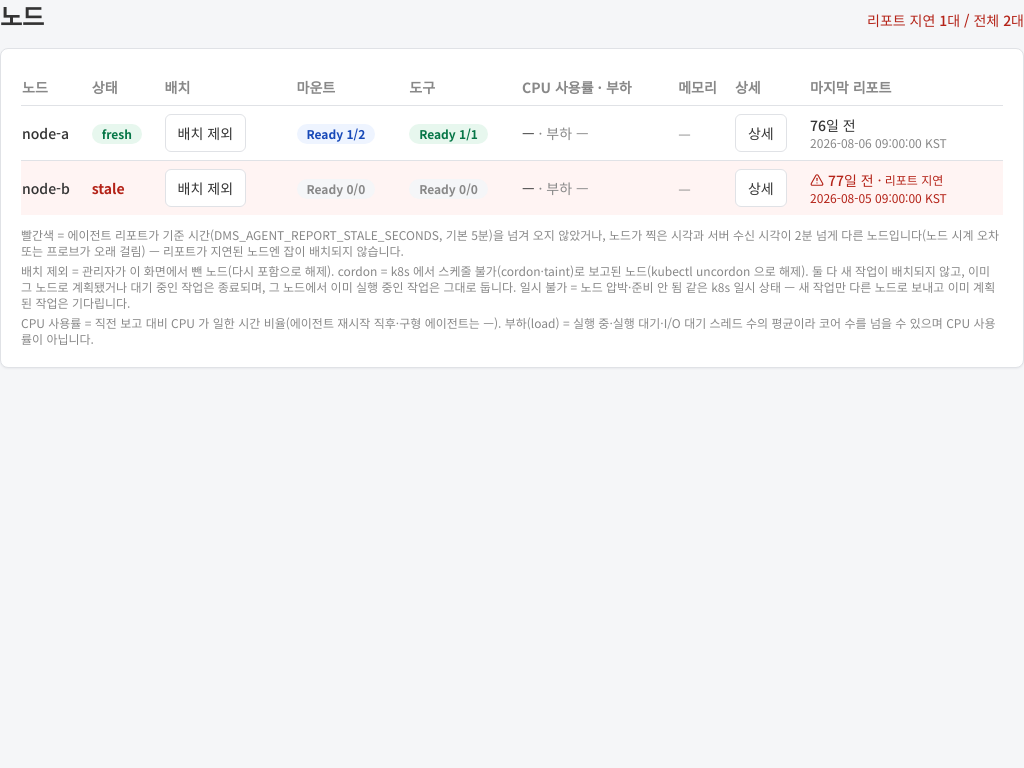
Scenario: clicking 상세 reveals mounts, tools and disk tables
Click the button "상세" in the row of "node-a" at (761,133), box [735,114,787,152]
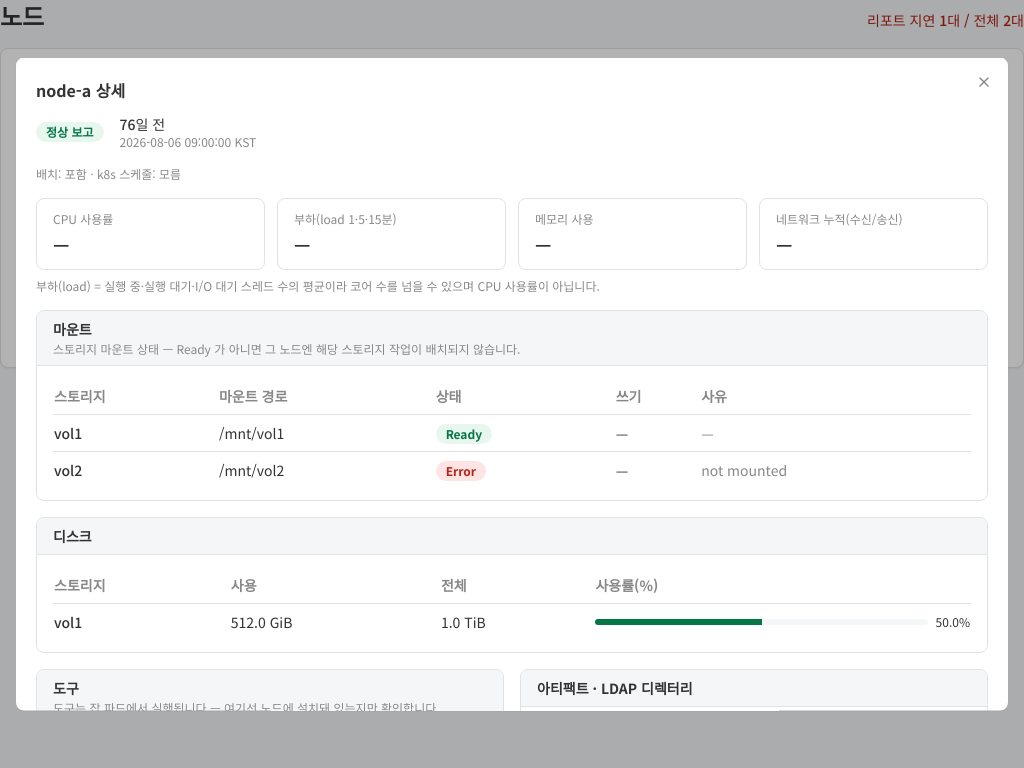
Check: the text "/mnt/vol1" is shown, box [218,414,435,451]
Check: the text "not mounted" is shown, box [700,451,971,488]
Check: the text "512.0 GiB" is shown, box [230,603,440,640]
